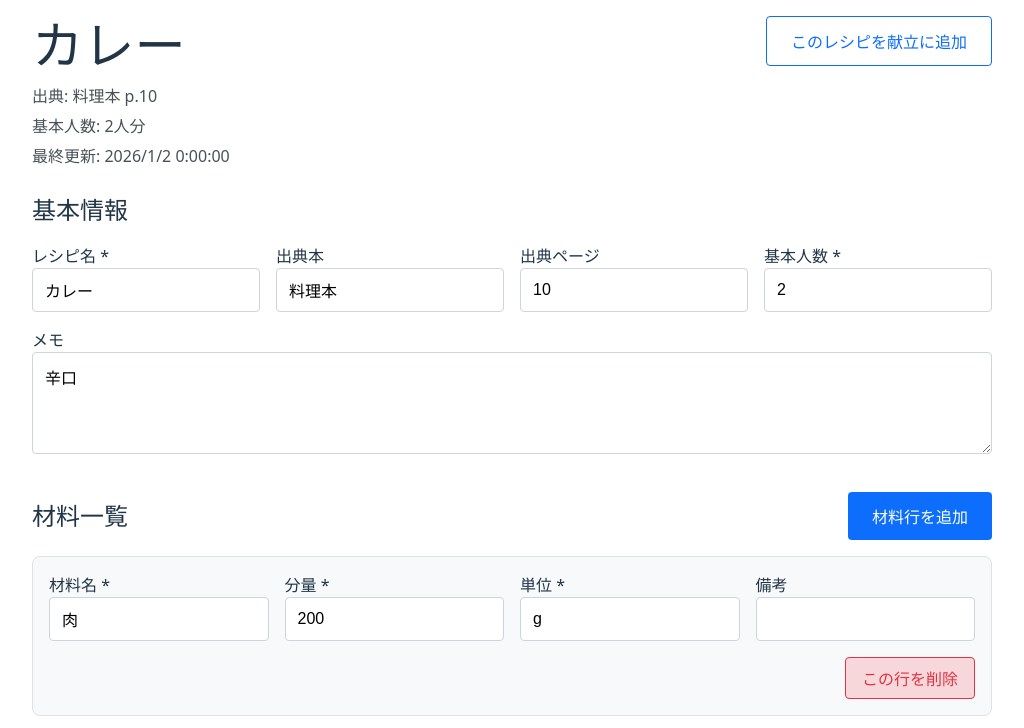
Test: RecipeDetailPage › 必須項目のvalidationエラーでは更新しない
Clear the field labelled "レシピ名 *" at (146, 290), box [32,268,260,312]
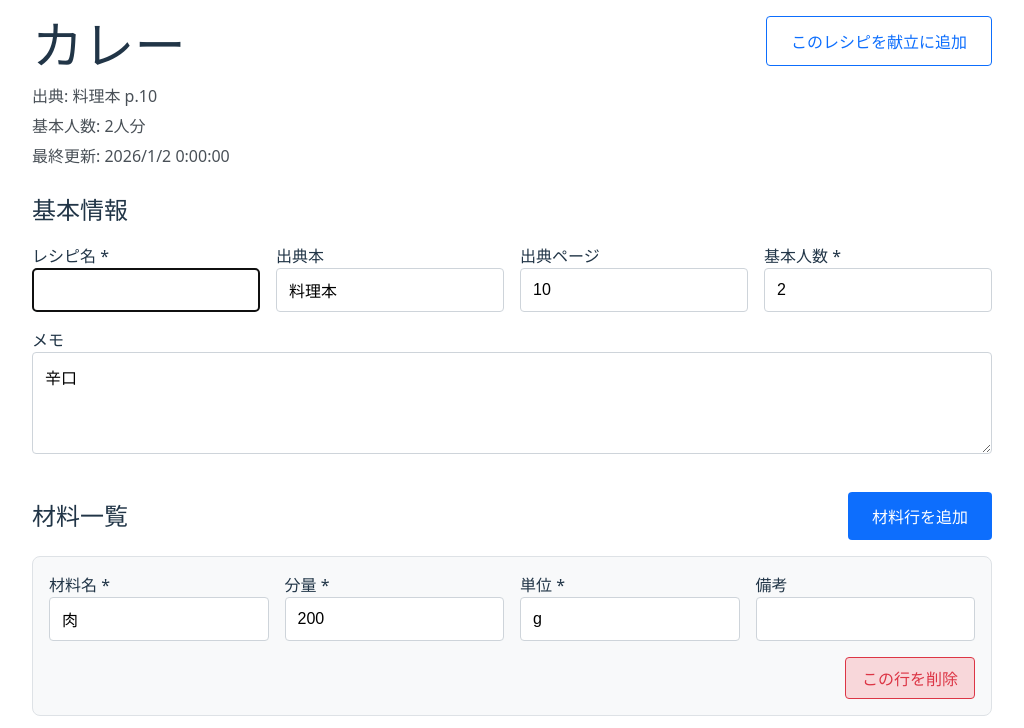
Clear the field labelled "材料名 *" at (159, 618), box [49,596,268,640]
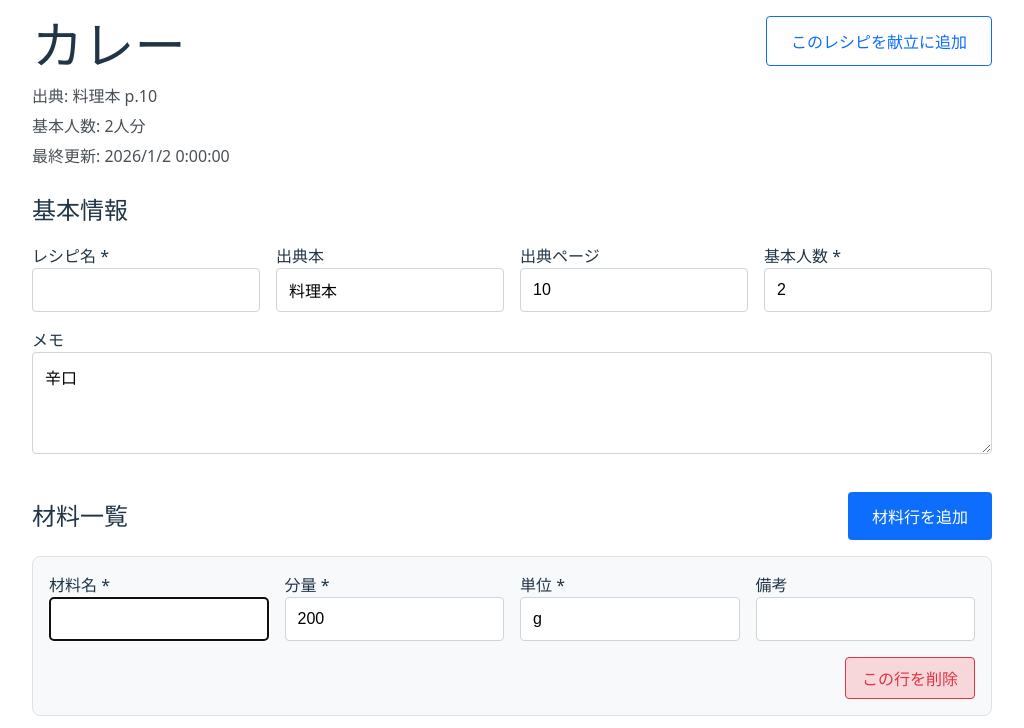
Clear the field labelled "分量 *" at (394, 618), box [284,596,504,640]
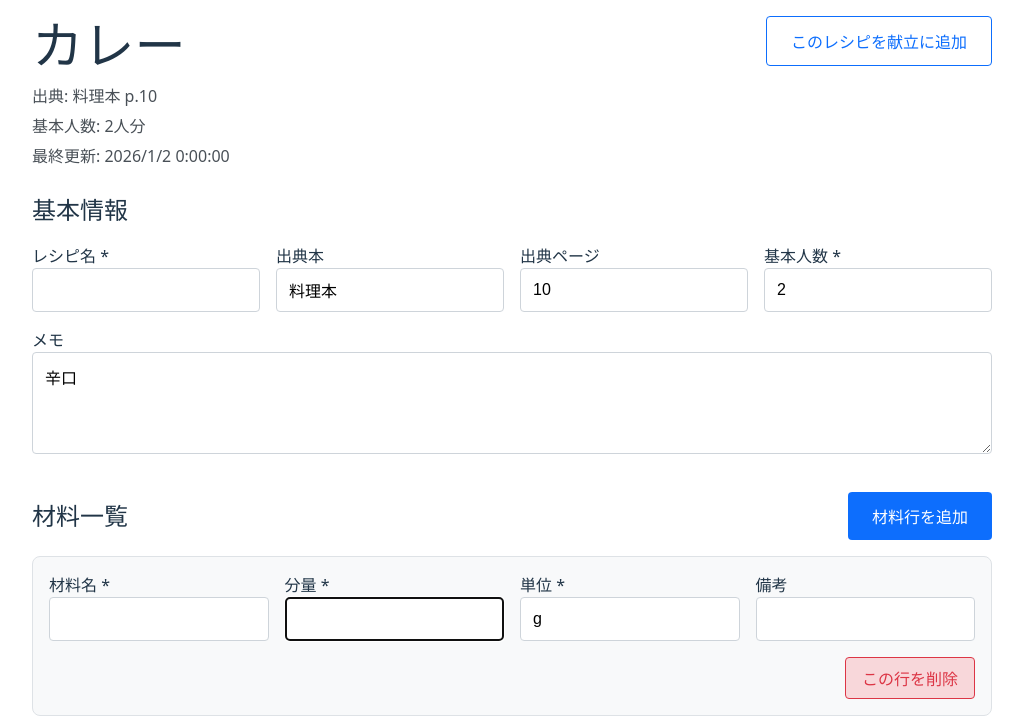
Clear the field labelled "単位 *" at (630, 618), box [520,596,740,640]
(page scrolled)
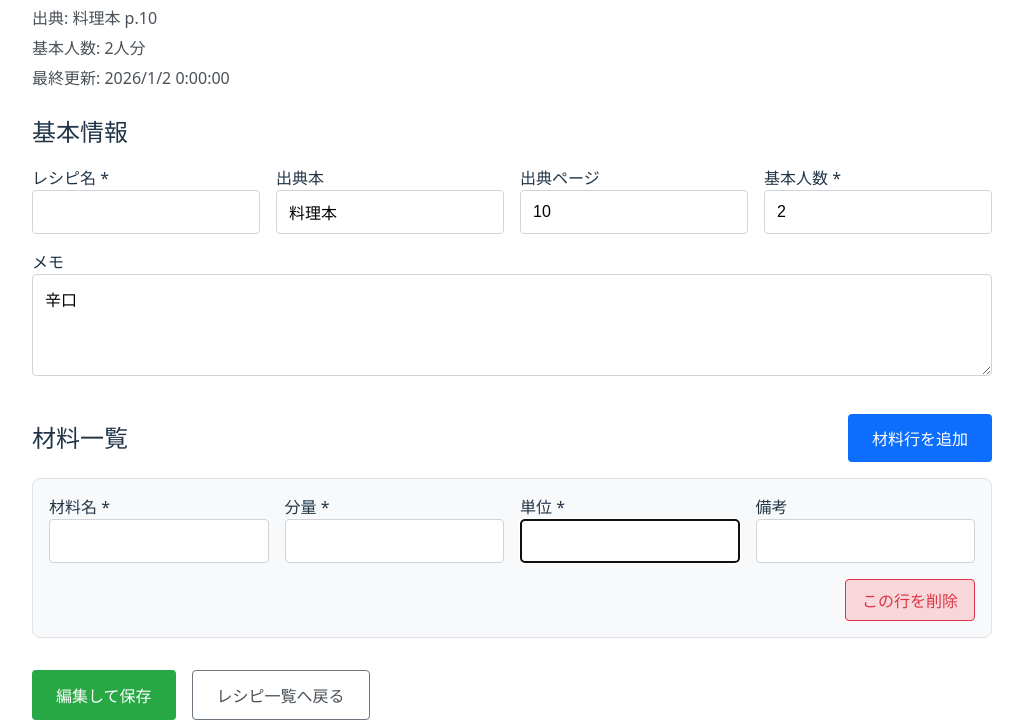
Click the button "編集して保存" at (104, 694), box [32,670,176,720]
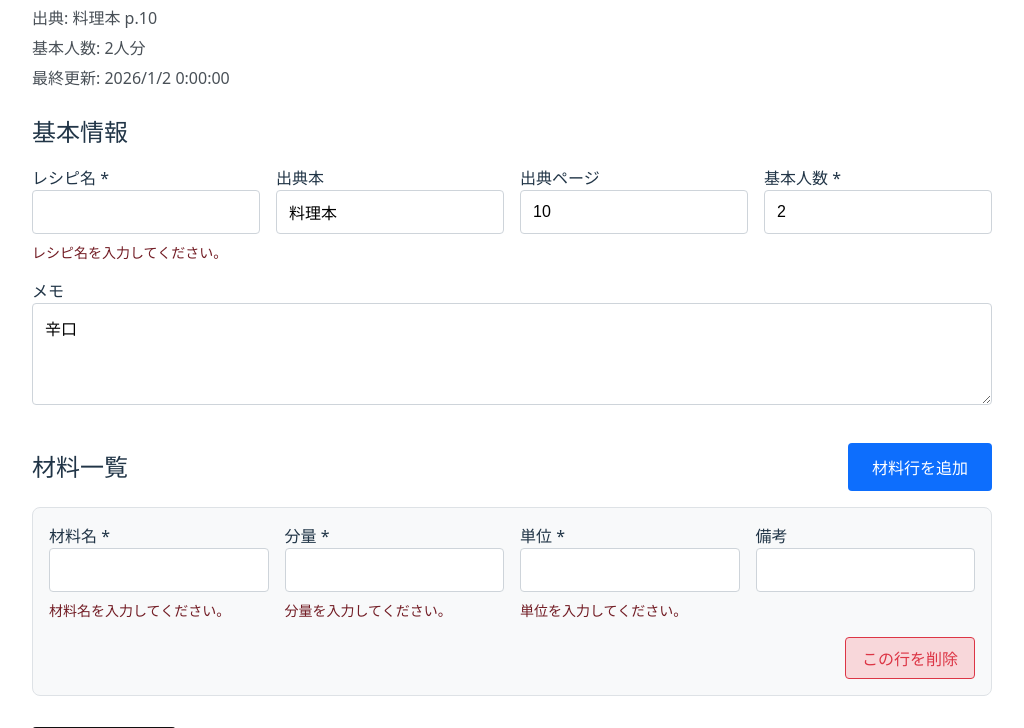
Result: the text "レシピ名を入力してください。" is shown at [32,242,260,262]
Result: the text "材料名を入力してください。" is shown at [49,600,230,620]
Result: the text "分量を入力してください。" is shown at [284,600,452,620]
